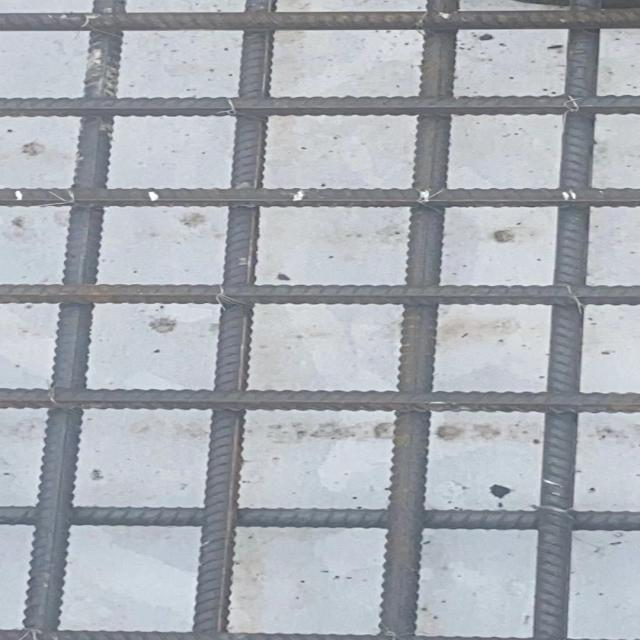ribbed bar: (23, 0, 124, 639), (184, 0, 277, 639), (374, 0, 461, 639), (529, 0, 602, 639), (0, 387, 639, 415), (0, 506, 639, 532), (0, 283, 639, 306), (0, 95, 639, 117), (0, 9, 639, 30), (0, 187, 639, 208)
